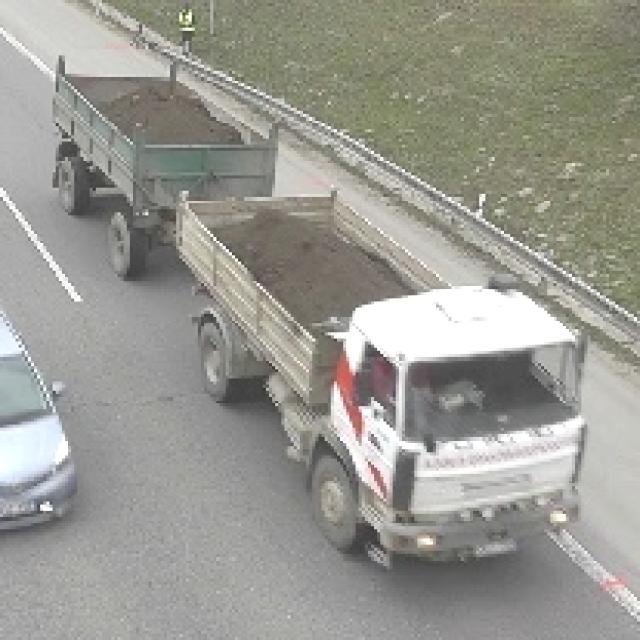truck: (51, 32, 586, 576)
